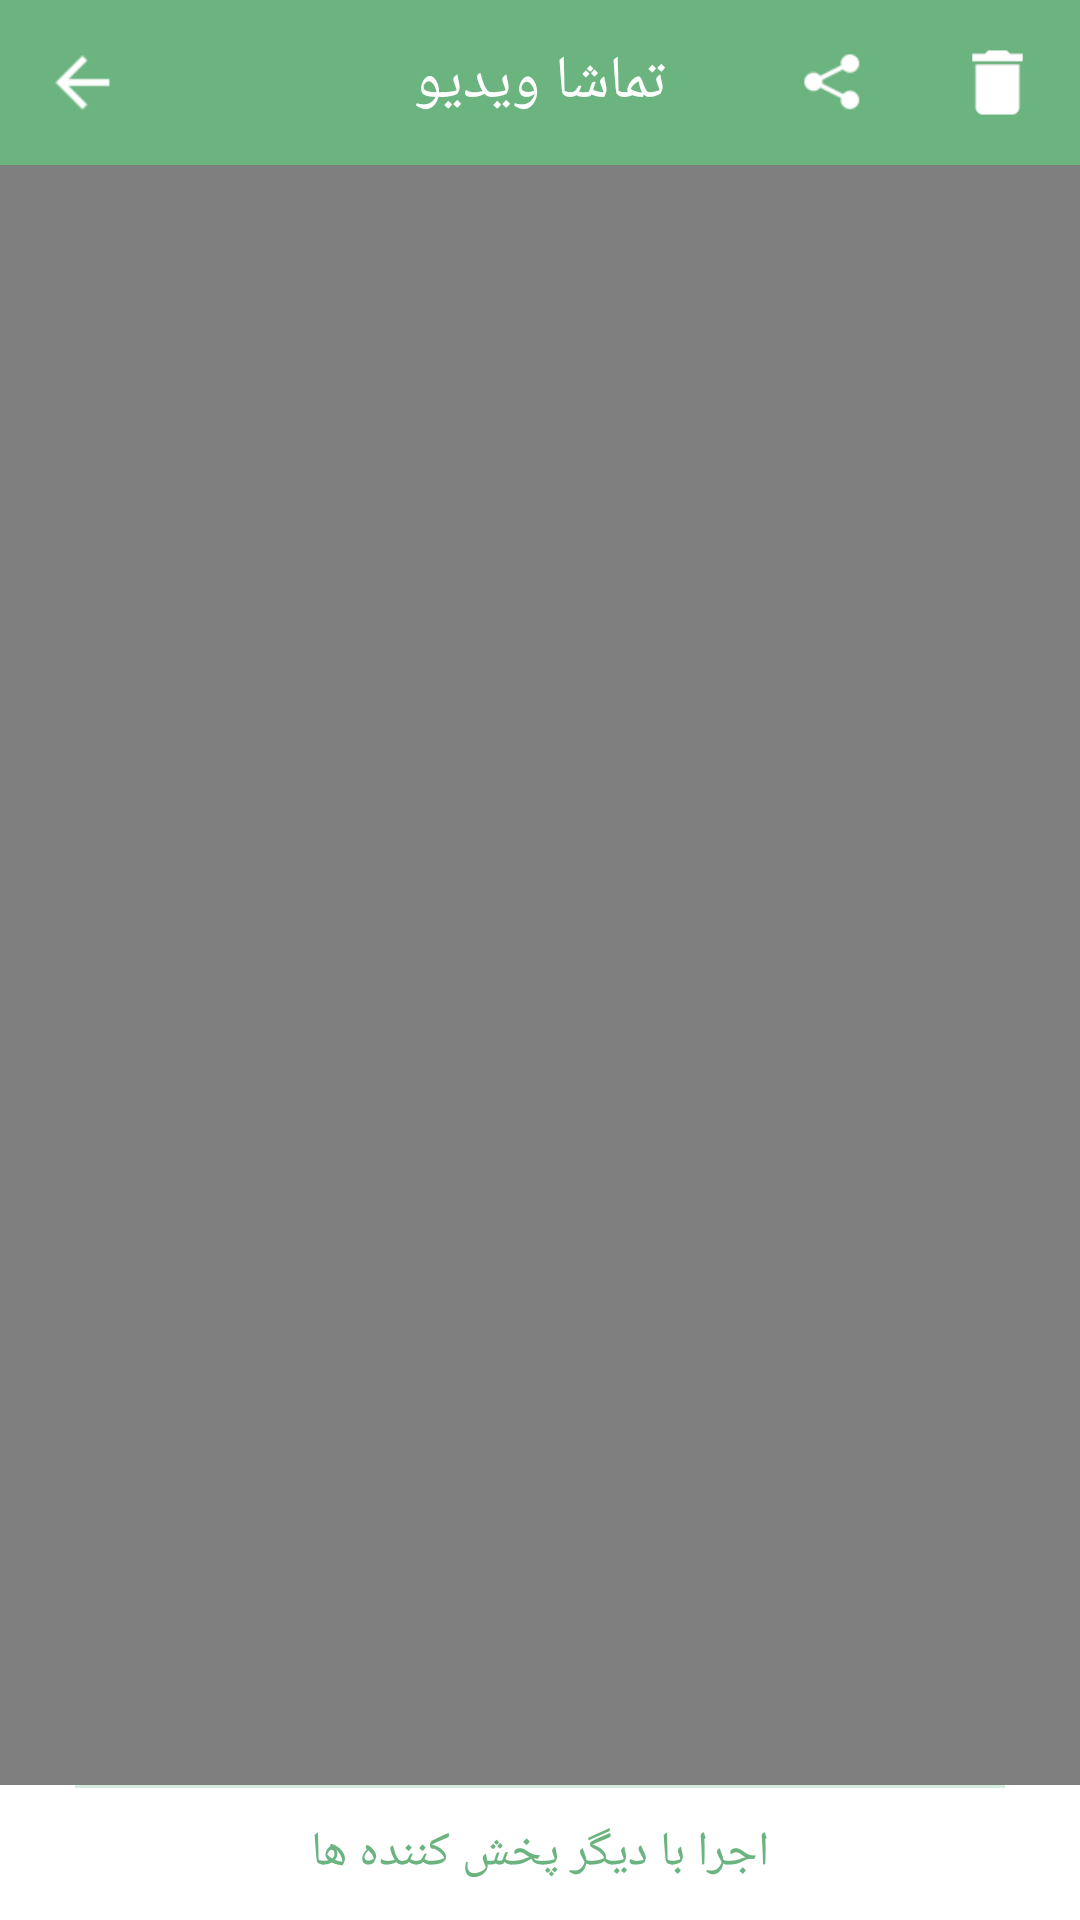

Named icons in this screenshot (1080w x 1920h) and their centers, [x,y]:
back unpresed: [82,82]
delete: [997,82]
share unpresed: [832,82]
